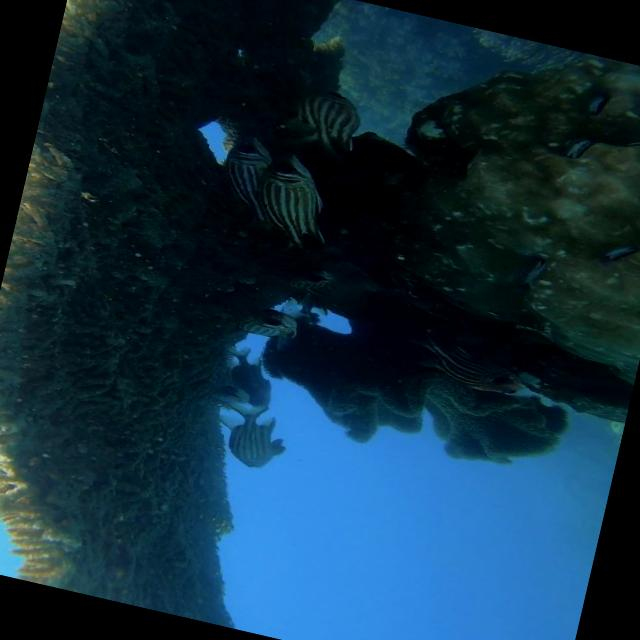Asker Baligi: (391, 329, 537, 404), (248, 150, 352, 252), (292, 72, 374, 160), (231, 293, 332, 357), (210, 404, 286, 484)
